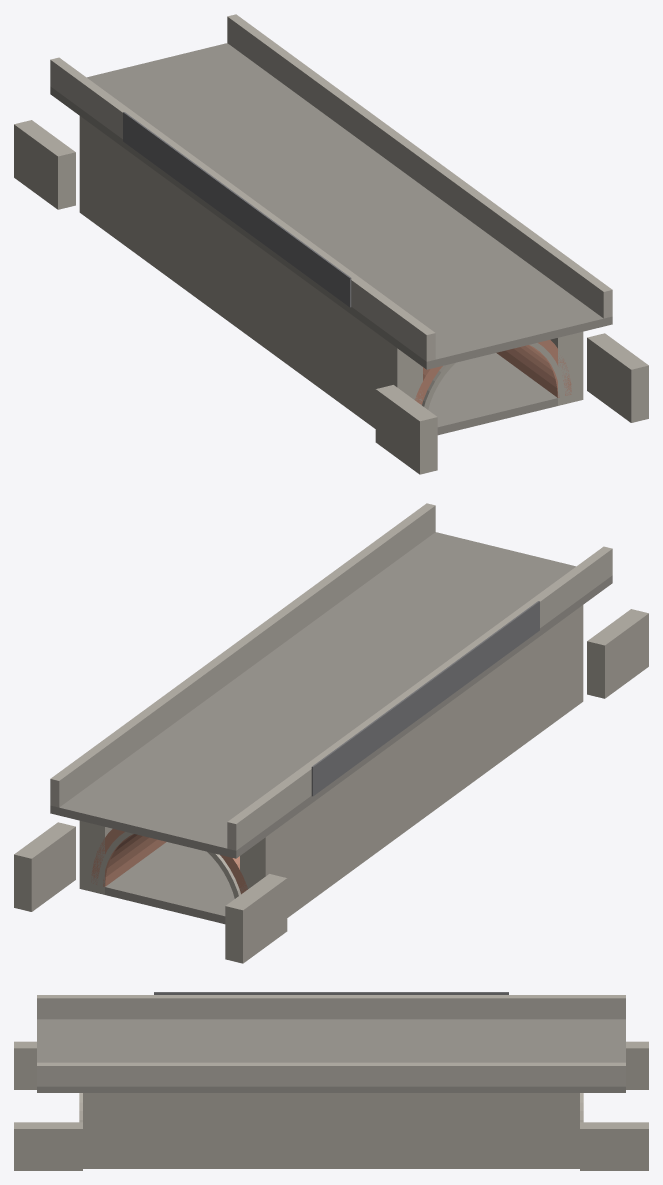
The model's file is cp_springbanks_arch.glb.
3 views of the same model, one above another, from view 1: azimuth 30°, elevation 25°; view 2: azimuth 150°, elevation 25°; view 3: azimuth 270°, elevation 25° (orthographic). The views are drawn at different scales.
Parts seen in each view (by area): view 1: SpringbanksArch; view 2: SpringbanksArch; view 3: SpringbanksArch.
Part boxes in pixels (x1,y1,x2,y2): SpringbanksArch: (14, 14, 648, 474); SpringbanksArch: (14, 503, 648, 963); SpringbanksArch: (14, 992, 648, 1170).
Bounding box in the file's own units: 9.01 × 5.04 × 27.64.
